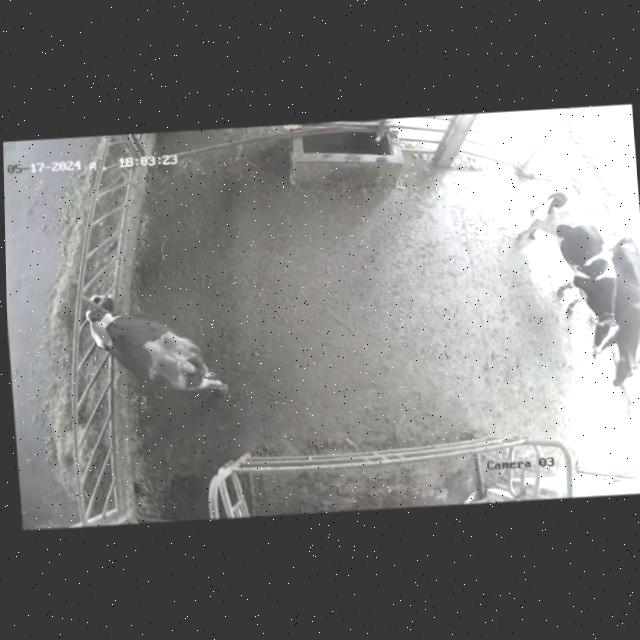eat: (50, 276, 143, 351)
stand: (525, 180, 622, 364), (605, 231, 640, 391)
